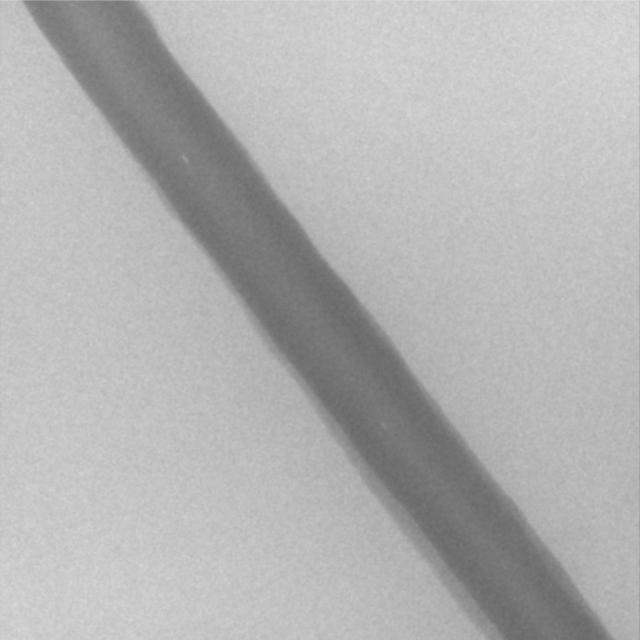air hole: (179, 153, 190, 165), (380, 420, 389, 431)
